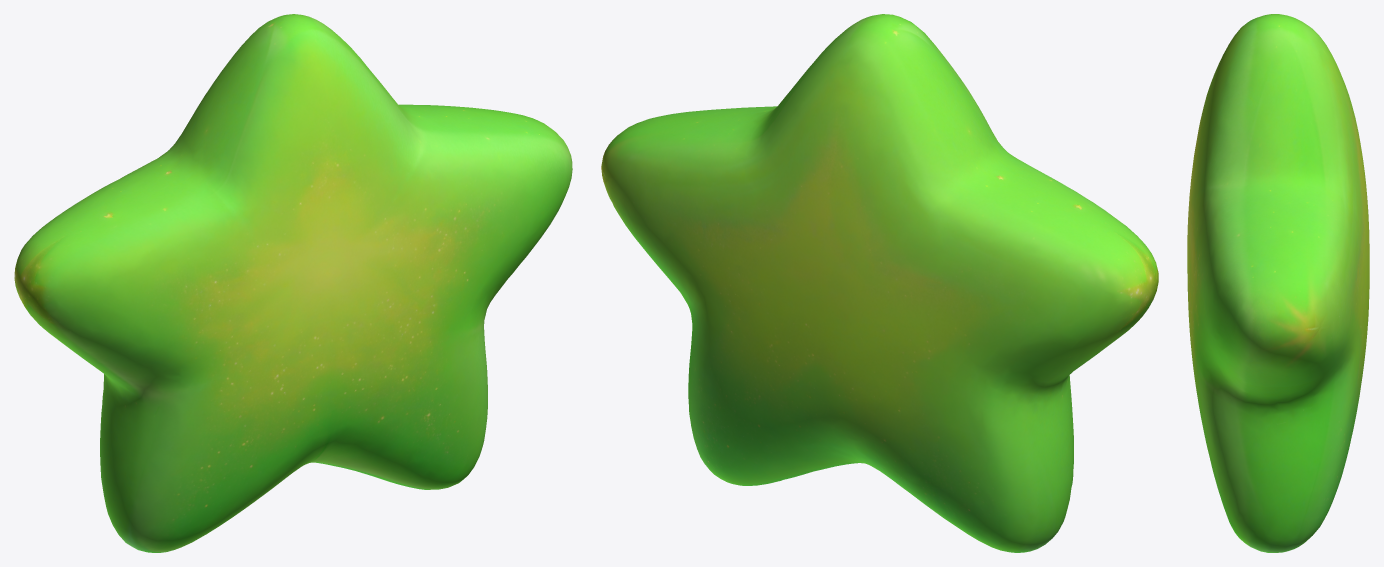
The model's file is goal.glb.
The picture shows the model from 3 angles, left to right: view 1: azimuth 30°, elevation 25°; view 2: azimuth 150°, elevation 25°; view 3: azimuth 270°, elevation 25°; orthographic projection. The views are drawn at different scales.
Bounding box in the file's own units: 1.62 × 1.42 × 0.5008.
1 material, 1 textured.
